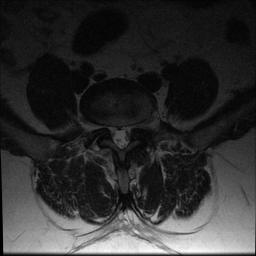CCS_normal: (117, 118, 124, 153)
LFS_severe_stenosis: (131, 116, 139, 138)
LLS_normal: (124, 119, 131, 148)
RFS_severe_stenosis: (101, 116, 109, 139)
RLS_normal: (109, 119, 117, 148)
